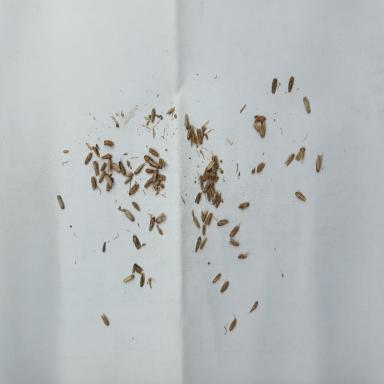pbw: (315, 152, 324, 173), (284, 152, 296, 166), (128, 182, 138, 198), (118, 156, 126, 176), (147, 213, 155, 231), (228, 313, 236, 331), (247, 301, 258, 314), (100, 312, 110, 326), (132, 235, 141, 250), (105, 177, 114, 192), (98, 168, 107, 183), (237, 249, 252, 258), (155, 212, 166, 224), (134, 162, 144, 175), (220, 278, 228, 294), (296, 147, 305, 161), (98, 153, 112, 162), (124, 210, 135, 221), (144, 154, 156, 164), (256, 160, 266, 172), (187, 124, 194, 141), (287, 76, 294, 92), (212, 154, 219, 170), (303, 97, 310, 113), (212, 190, 219, 206), (150, 169, 158, 183), (148, 148, 159, 158), (205, 160, 214, 172), (131, 200, 140, 212), (195, 235, 201, 253), (144, 176, 152, 189), (84, 152, 92, 165), (92, 146, 100, 159), (271, 78, 277, 95), (111, 163, 121, 173), (150, 179, 160, 189), (238, 202, 249, 211), (295, 192, 306, 201), (212, 273, 221, 284), (201, 208, 208, 222), (260, 121, 266, 137), (196, 128, 202, 144), (57, 195, 64, 208), (253, 115, 266, 122), (91, 176, 97, 191), (93, 161, 99, 176), (210, 176, 220, 185), (123, 274, 134, 282), (228, 238, 239, 246), (192, 217, 200, 228), (184, 113, 189, 130), (205, 213, 212, 225), (200, 237, 207, 249), (203, 180, 209, 194), (252, 122, 260, 132), (140, 272, 145, 288), (215, 195, 221, 208), (217, 219, 228, 226), (149, 162, 160, 169), (104, 140, 113, 148), (150, 108, 155, 122), (159, 158, 166, 168), (207, 188, 212, 202), (108, 158, 112, 174), (124, 176, 132, 184), (200, 174, 204, 190), (157, 174, 166, 181), (100, 162, 107, 171), (145, 168, 155, 174), (201, 224, 206, 236), (124, 171, 134, 177)
